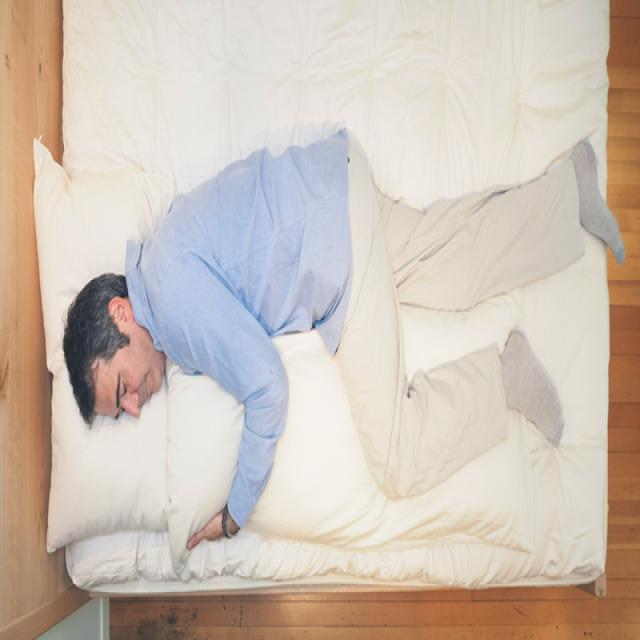people: (54, 105, 632, 579)
